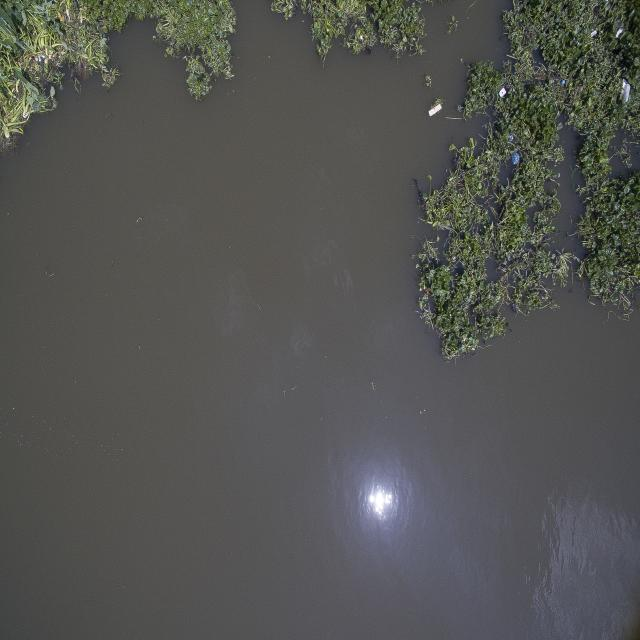plastic: (615, 71, 640, 112), (505, 138, 527, 176), (425, 94, 450, 124), (496, 80, 512, 103), (615, 26, 626, 44), (588, 26, 601, 40)
